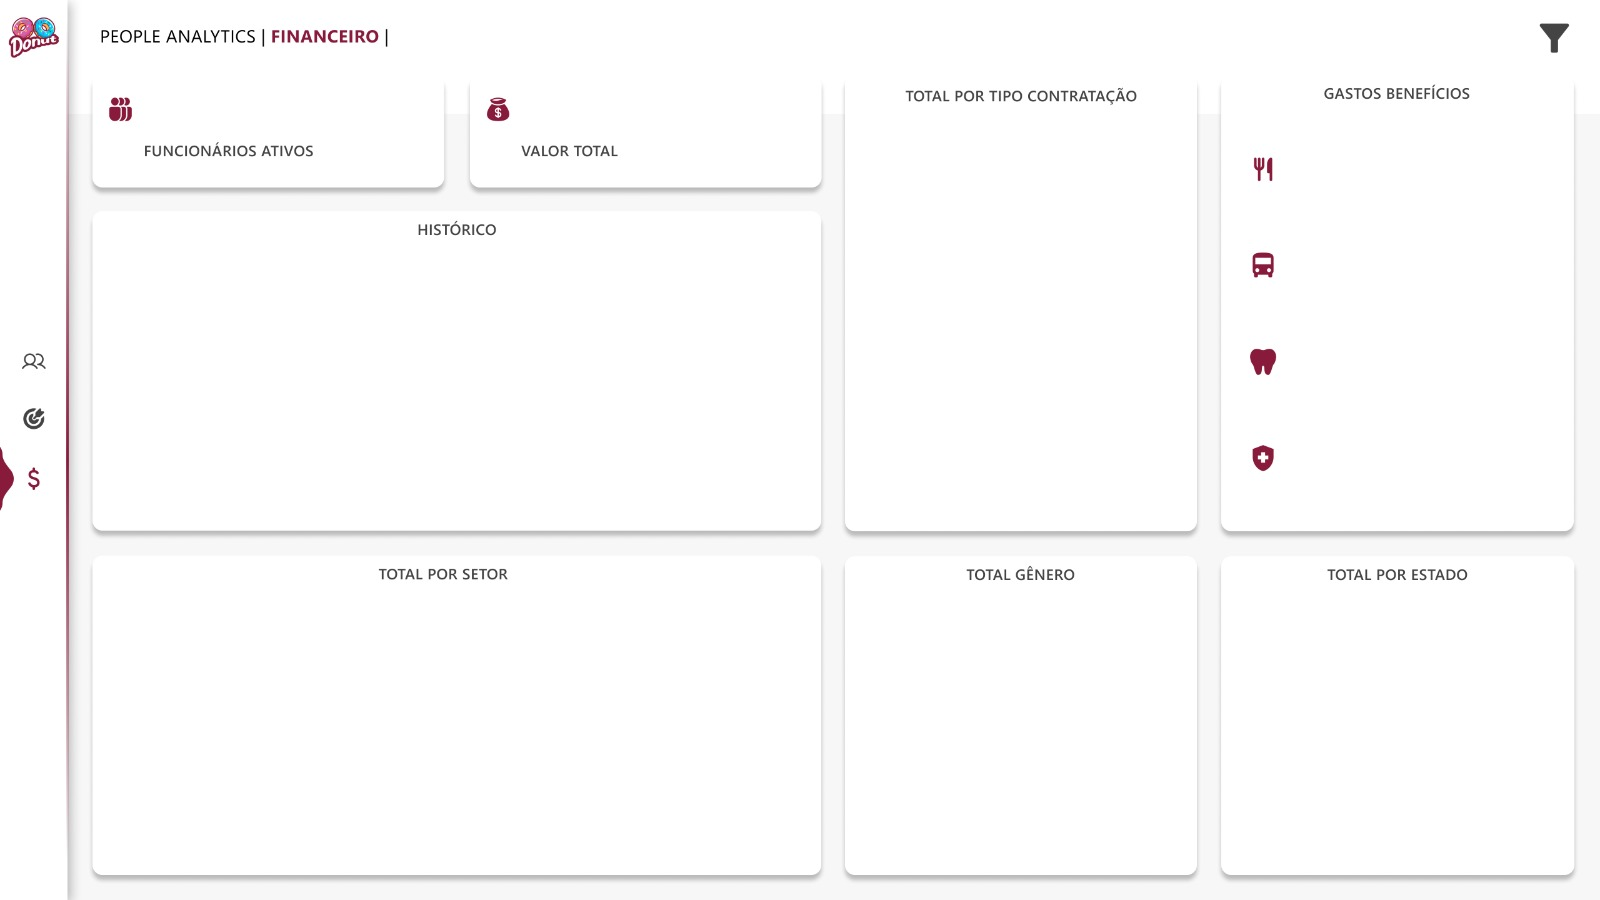

What the dashboard file says about the page in this screenshot:
{"tool":"powerbi","page":{"name":"Financeiro","canvas":[1280,720],"ordinal":2},"visuals":[{"type":"slicer","fields":{"Values":["paramentro_financeiro.paramentro_financeiro"]},"box":[370.4,7.1,287.3,46],"z":1000},{"type":"card","fields":{"Values":["_Metricas.Total Colaboradores Ativos"]},"box":[87.6,35.8,148.4,103.7],"z":2000},{"type":"card","fields":{"Values":["_Metricas.Total Horas Extras"]},"box":[386,44.9,271.6,85.8],"z":3000},{"type":"card","fields":{"Values":["_Metricas.Total Beneficio VT"]},"box":[1028.2,182.8,228.7,69.4],"z":4000},{"type":"card","fields":{"Values":["_Metricas.Total Beneficio Plano.Saude"]},"box":[1028.2,339,228.7,76.6],"z":5000},{"type":"card","fields":{"Values":["_Metricas.Total Beneficio VA"]},"box":[1028.2,102.9,228.7,73.5],"z":6000},{"type":"card","fields":{"Values":["_Metricas.Total Beneficio Plano.O"]},"box":[1028.2,263.4,228.7,64.3],"z":7000},{"type":"clusteredColumnChart","fields":{"Y":["_Metricas.Total Horas Extras"],"Category":["D_Calendario.Data.Variation.Hierarquia de datas.Mês"]},"box":[71.5,169.5,586.1,269.6],"z":8000},{"type":"barChart","fields":{"Y":["_Metricas.Total Horas Extras"],"Category":["D_TipoFuncionarios.tipo_func"]},"box":[674.9,63.3,301.2,365.5],"z":9000},{"type":"funnel","fields":{"Y":["_Metricas.Total Horas Extras"],"Category":["D_Departamentos.departamento"]},"box":[71.5,465.6,586.1,235.9],"z":10000},{"type":"treemap","fields":{"Values":["_Metricas.Total Horas Extras"],"Group":["F_Registros.identificacao_racial"]},"box":[674.9,458.5,282.8,243],"z":11000},{"type":"shapeMap","fields":{"Value":["_Metricas.Total Horas Extras"],"Category":["D_Regioes.Estado"]},"box":[983.3,465.6,277.7,235.9],"z":12000}]}

Visuals, with their boxes on the page's 1280x720 design canvas (x1, y1, x2, y2). These are canvas units, not pixel positions in the 1600x900 screenshot, which may show the page scaled, cropped or inside an application window:
slicer - paramentro_financeiro.paramentro_financeiro: 370,7,658,53
card - _Metricas.Total Colaboradores Ativos: 88,36,236,140
card - _Metricas.Total Horas Extras: 386,45,658,131
card - _Metricas.Total Beneficio VT: 1028,183,1257,252
card - _Metricas.Total Beneficio Plano.Saude: 1028,339,1257,416
card - _Metricas.Total Beneficio VA: 1028,103,1257,176
card - _Metricas.Total Beneficio Plano.O: 1028,263,1257,328
clusteredColumnChart - _Metricas.Total Horas Extras x D_Calendario.Data.Variation.Hierarquia de datas.Mês: 72,170,658,439
barChart - _Metricas.Total Horas Extras x D_TipoFuncionarios.tipo_func: 675,63,976,429
funnel - _Metricas.Total Horas Extras x D_Departamentos.departamento: 72,466,658,702
treemap - _Metricas.Total Horas Extras x F_Registros.identificacao_racial: 675,458,958,702
shapeMap - _Metricas.Total Horas Extras x D_Regioes.Estado: 983,466,1261,702
